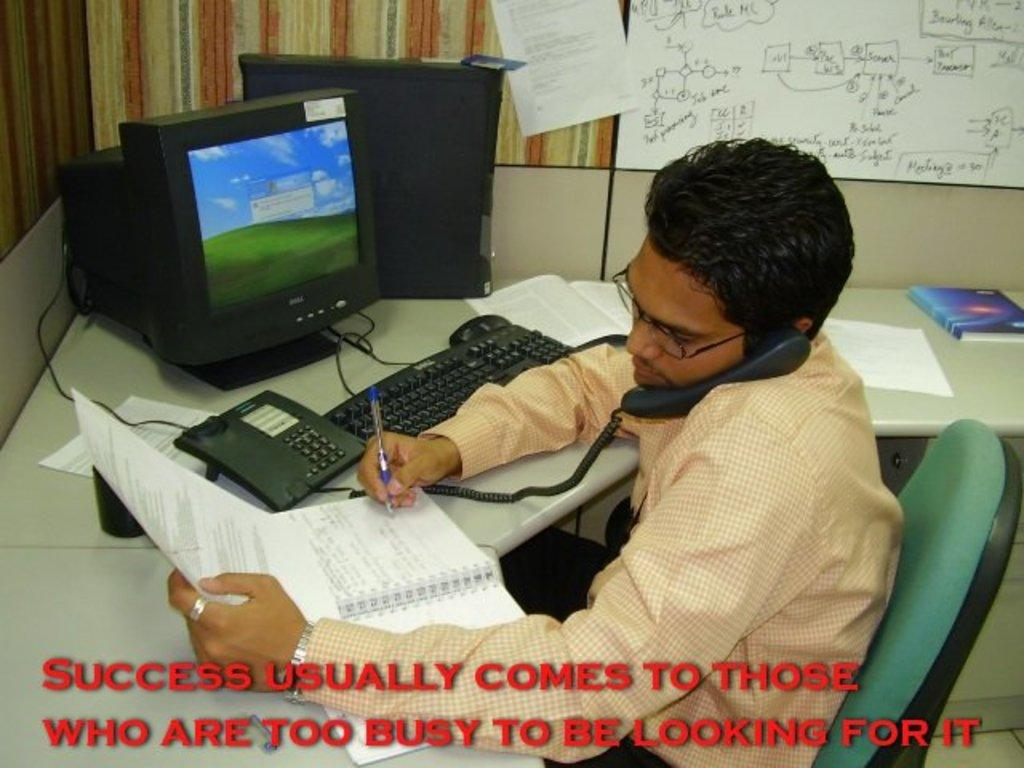Computer-keyboard: (323, 326, 576, 442)
Computer-monitor: (69, 75, 413, 381)
